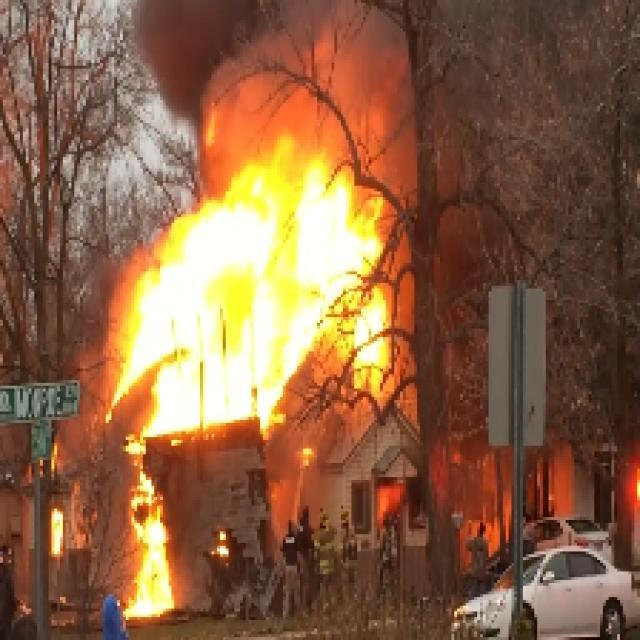Fire: (132, 186, 396, 417)
